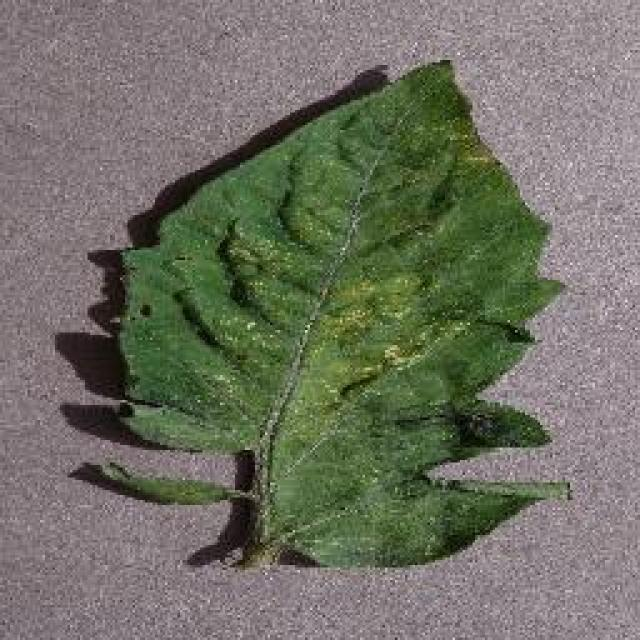Tomato spider mites leaf: (114, 54, 574, 574)
